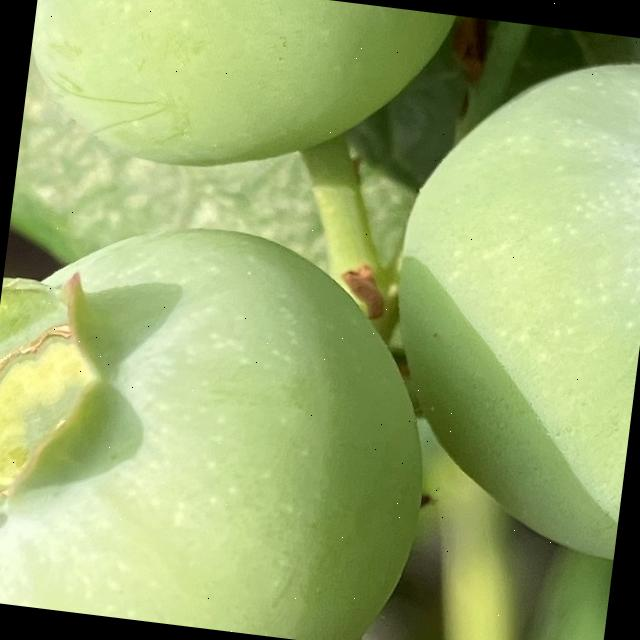Blueberries: (0, 199, 457, 640), (356, 29, 640, 565), (18, 0, 467, 202)
